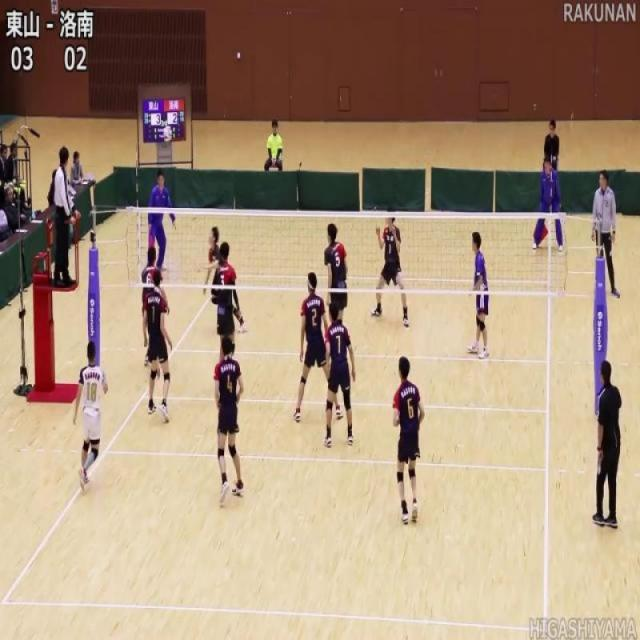volleyball: (162, 125, 174, 144)
